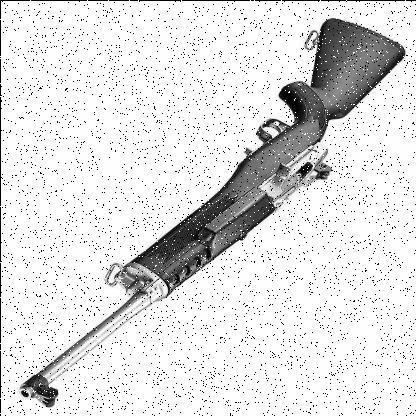rifle: (13, 15, 413, 410)
